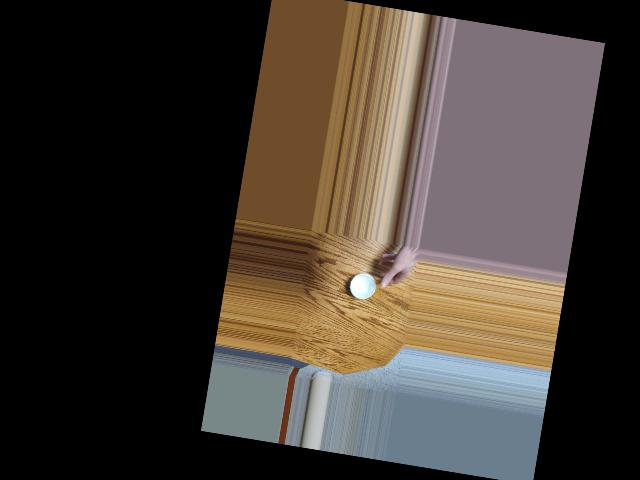cotage: (342, 264, 380, 307)
